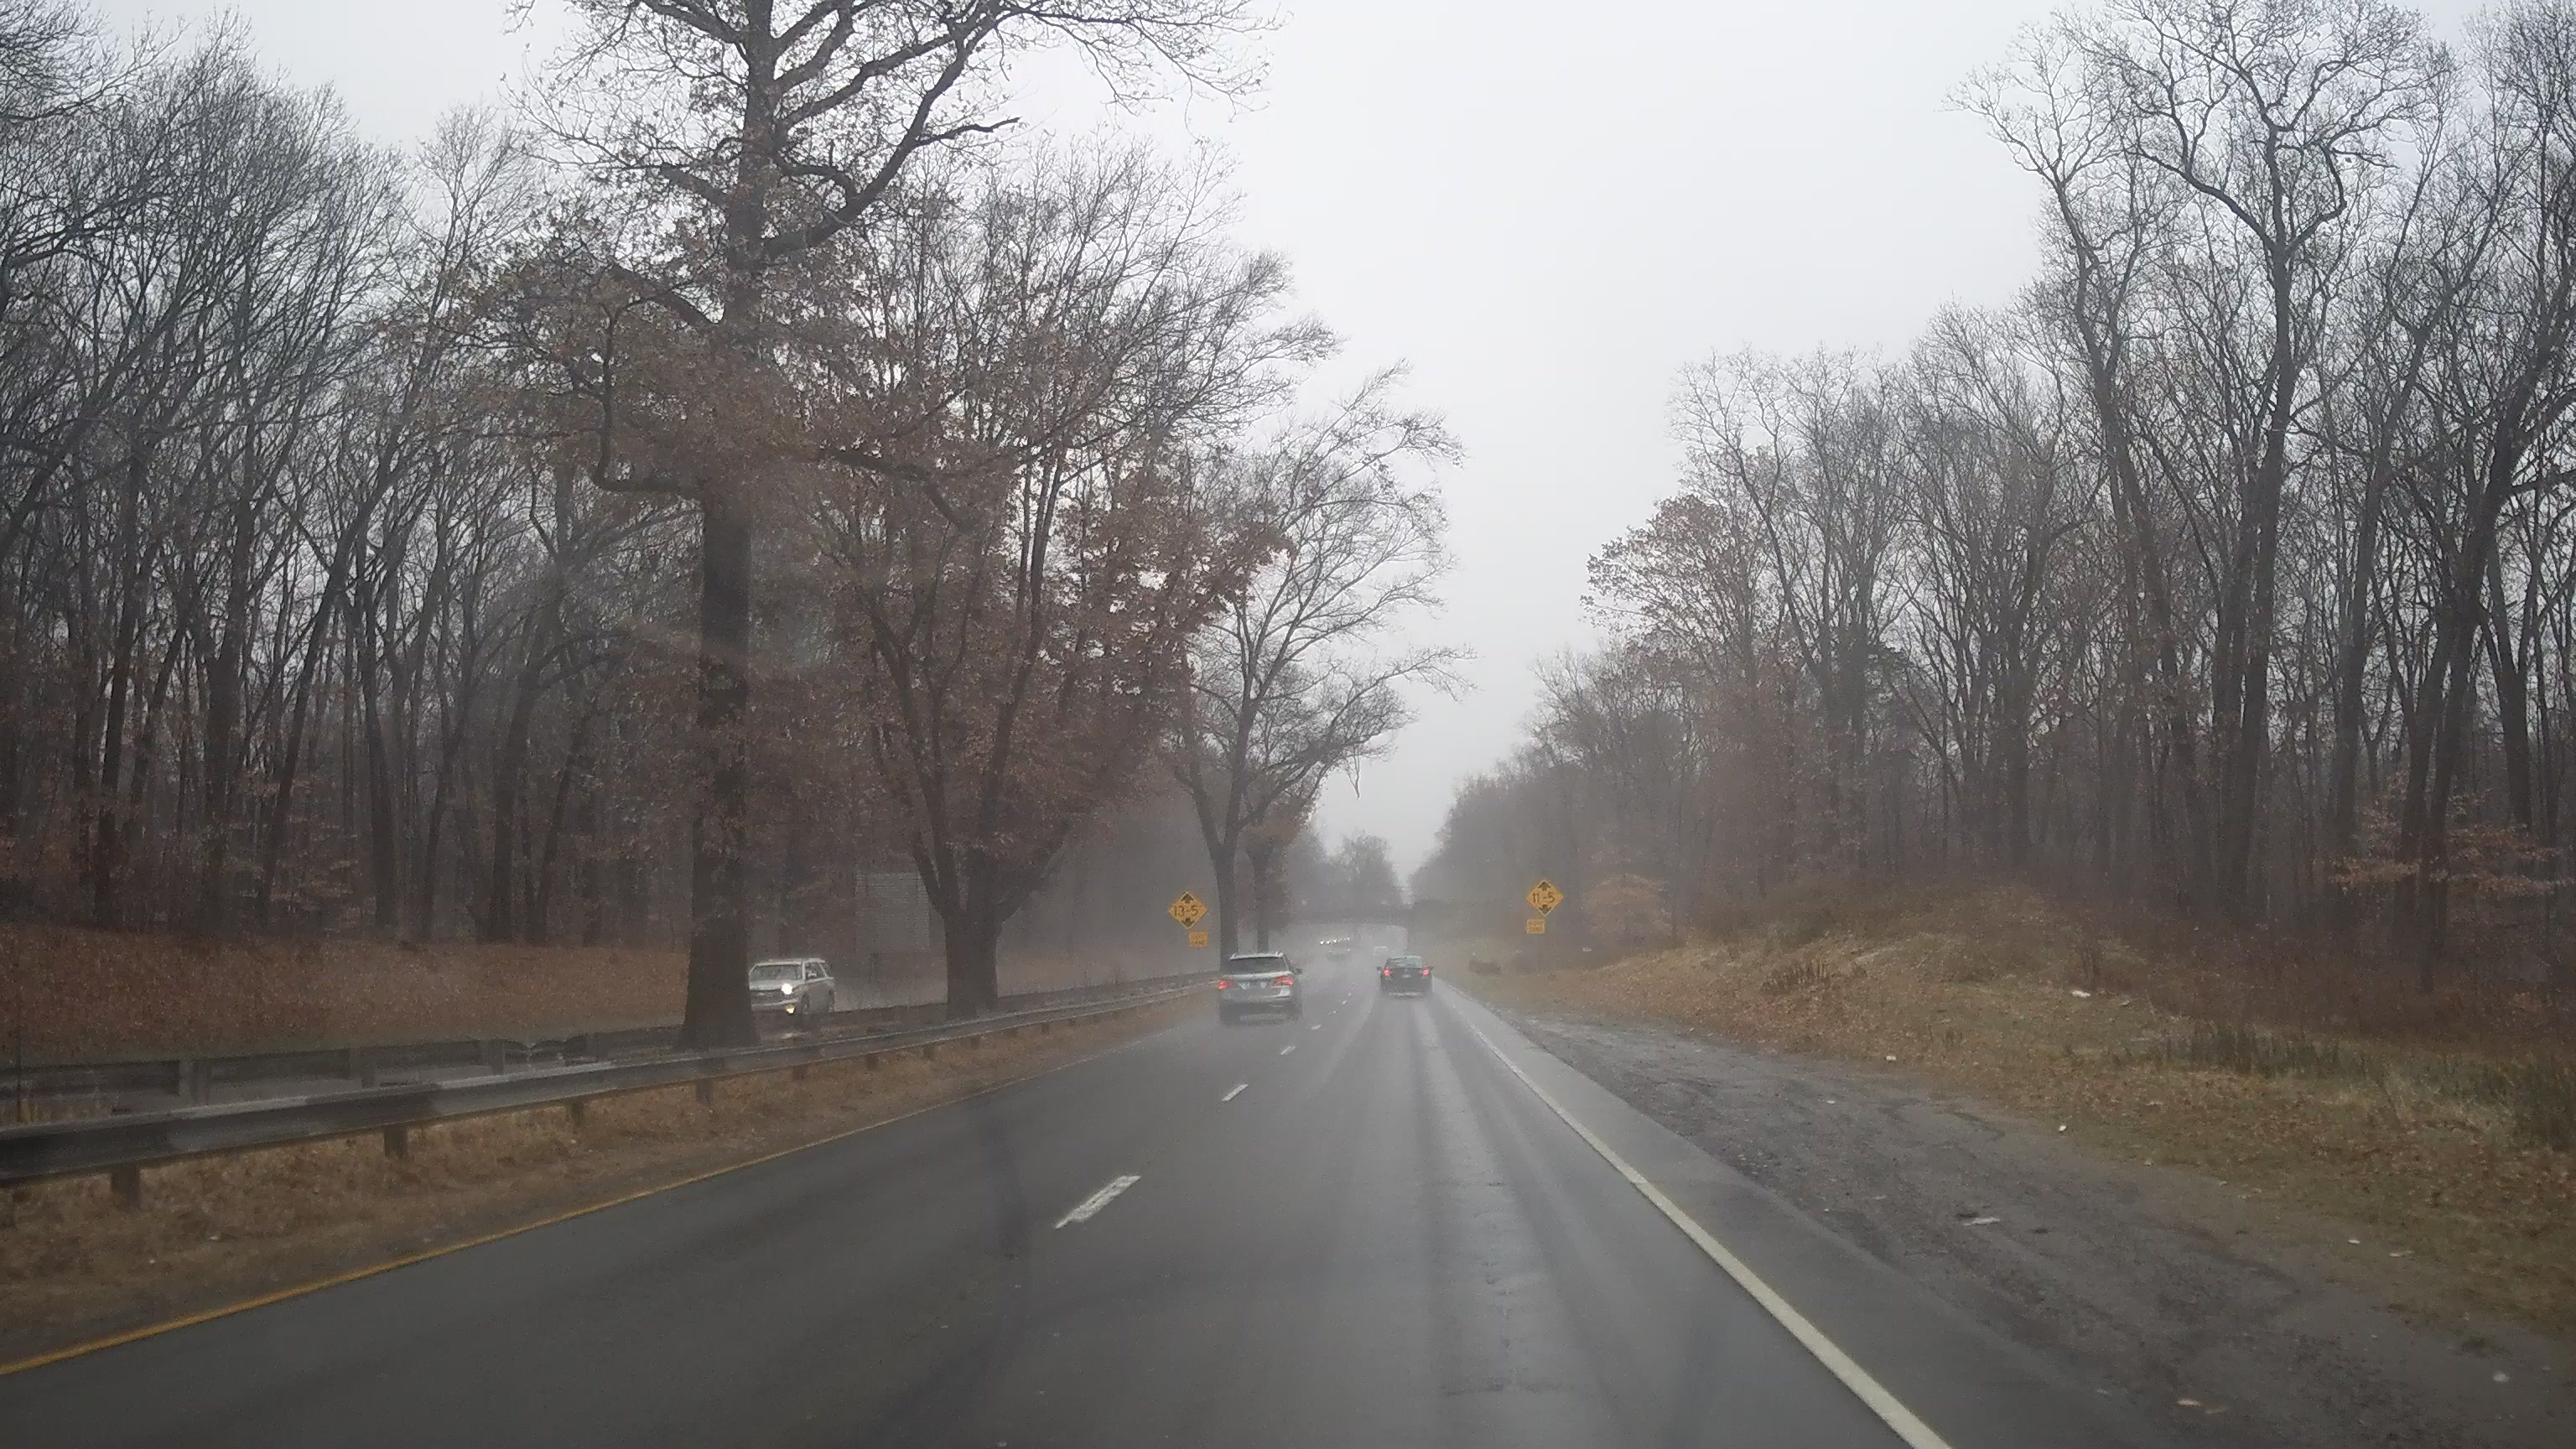low-clearance-sign: (1166, 890, 1208, 931), (1525, 878, 1564, 918)
